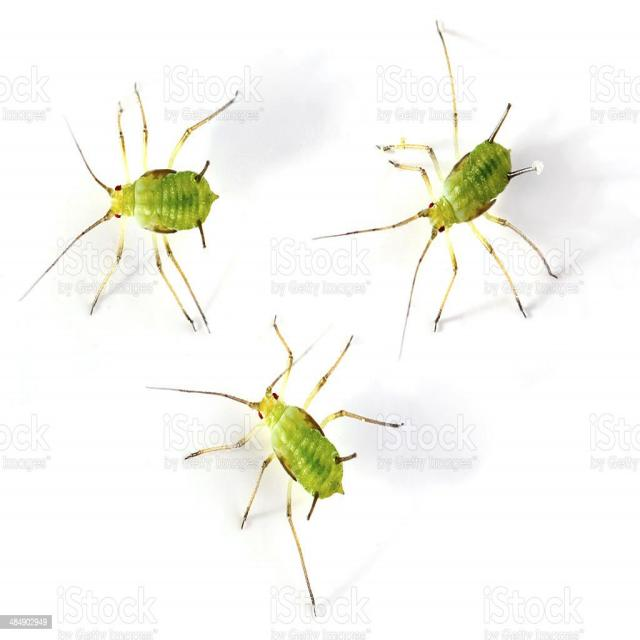Aphid-Grown-: (346, 46, 553, 306), (188, 331, 402, 544), (61, 85, 223, 317)
